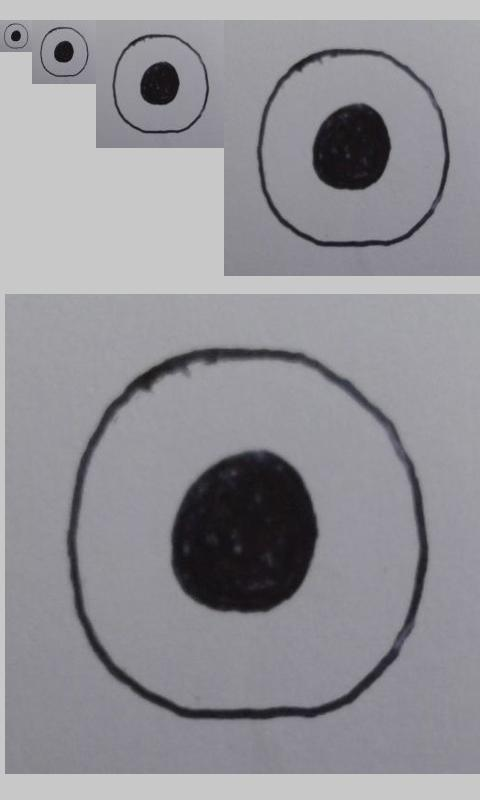radio_button: (65, 346, 430, 724), (255, 47, 450, 249), (112, 33, 210, 135), (39, 26, 89, 78), (3, 22, 29, 49)
